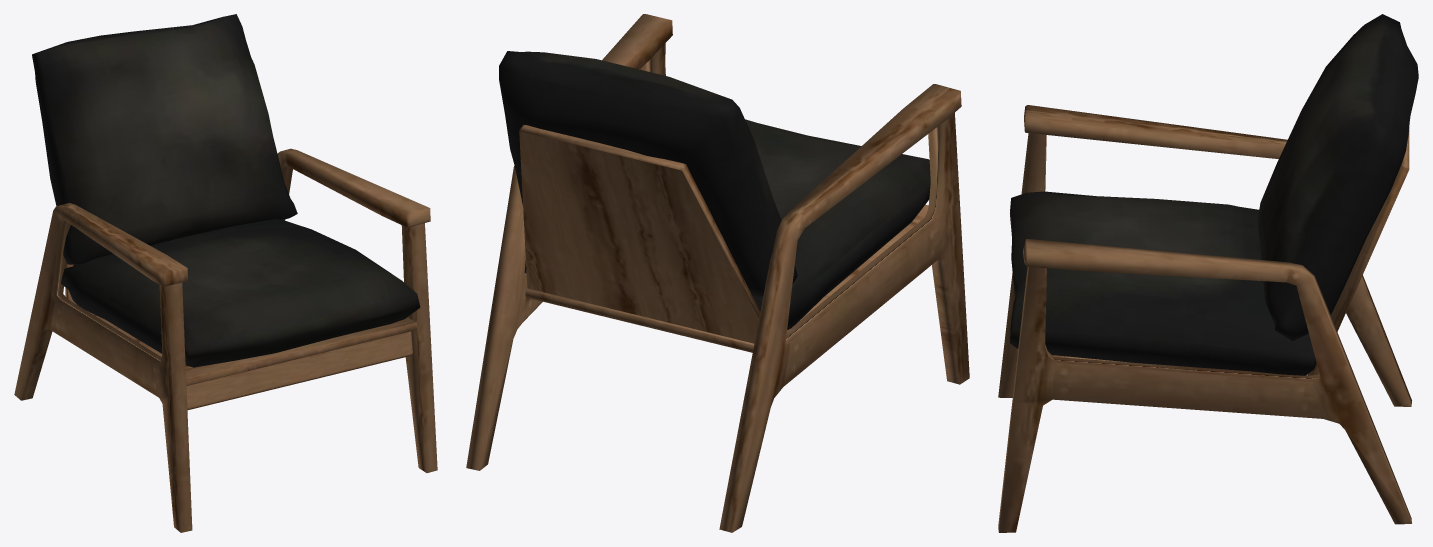
File: modern_arm_chair_01.glb
3 views of the same model, side by side, from view 1: azimuth 30°, elevation 25°; view 2: azimuth 150°, elevation 25°; view 3: azimuth 270°, elevation 25° (orthographic). The views are drawn at different scales.
Parts seen in each view (by area): view 1: modern_arm_chair_01; view 2: modern_arm_chair_01; view 3: modern_arm_chair_01.
Part boxes in pixels (x1,y1,x2,y2): modern_arm_chair_01: [14, 14, 437, 532]; modern_arm_chair_01: [466, 14, 969, 532]; modern_arm_chair_01: [998, 14, 1418, 532].
Size of the model in its own units: 0.8166 by 1.02 by 0.9863.
2 materials, 2 textured.
